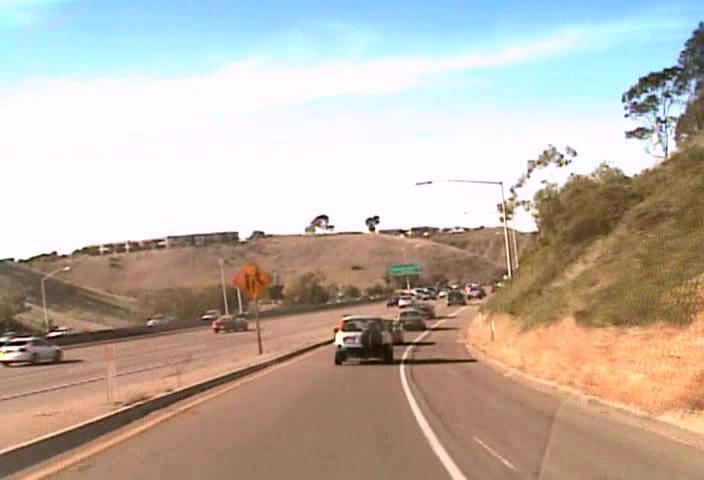addedLane: (233, 260, 272, 301)
